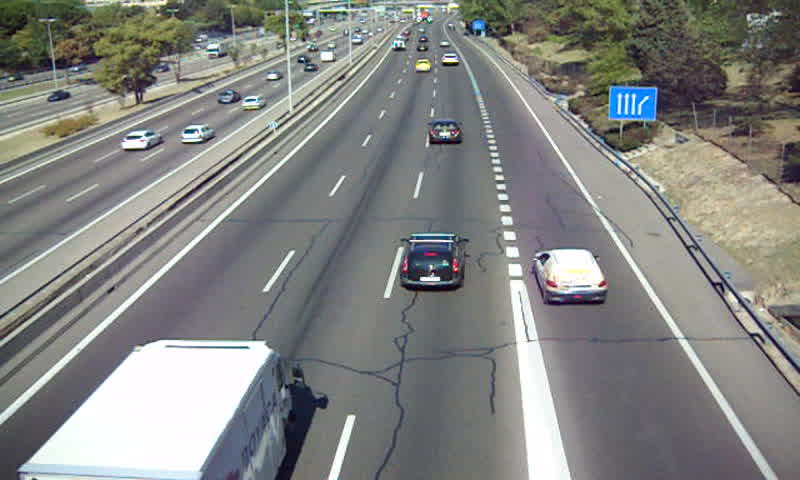car: (534, 248, 607, 303), (399, 232, 468, 289), (426, 119, 462, 143), (414, 58, 431, 74), (441, 52, 460, 66)
small-truck: (17, 339, 297, 480)
